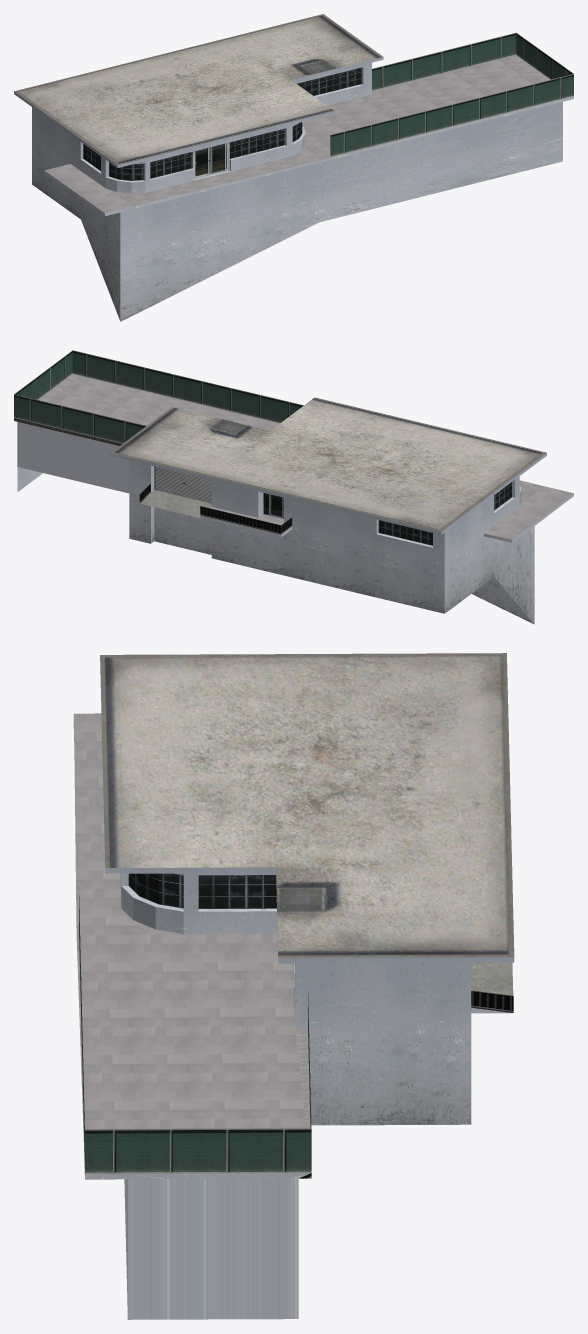
The model's file is tcelhouse06.obj.
3 renders of one model, top to bottom at view 1: azimuth 30°, elevation 25°; view 2: azimuth 150°, elevation 25°; view 3: azimuth 270°, elevation 25°, orthographic. The views are drawn at different scales.
Visible parts, largest first — view 1: TCElhouse06; view 2: TCElhouse06; view 3: TCElhouse06.
Boxes of the visible parts, x1=… form: TCElhouse06: x1=14, y1=14, x2=573, y2=321; TCElhouse06: x1=14, y1=350, x2=573, y2=624; TCElhouse06: x1=73, y1=653, x2=514, y2=1319.
Bounding box in the file's own units: 56.35 × 18.39 × 22.75.
